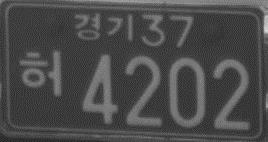0: (167, 56, 206, 129)
2: (211, 58, 251, 133), (125, 54, 163, 130)
3: (140, 11, 166, 49)
4: (79, 53, 119, 127)
7: (166, 12, 196, 49)
경기_O: (73, 10, 135, 42)
허: (17, 48, 64, 97)
